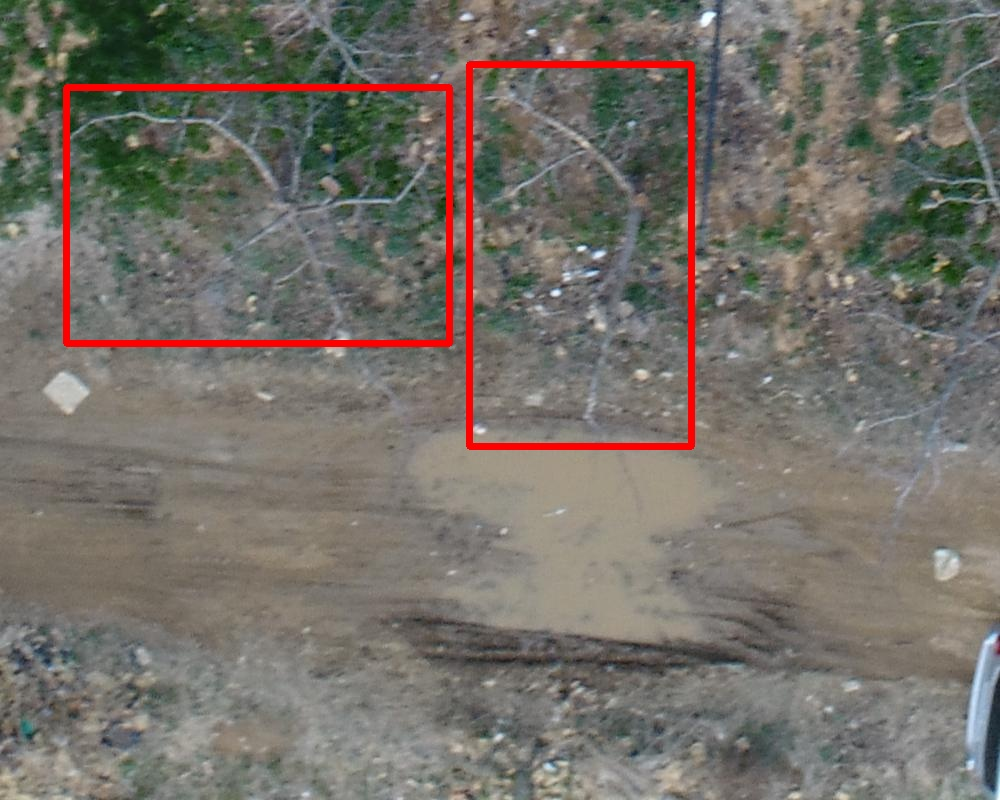apple: (66, 87, 449, 343), (469, 64, 691, 446)
